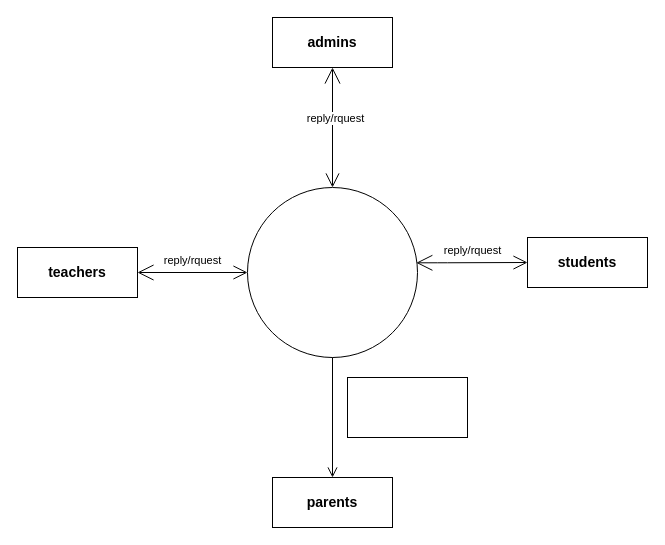
This 665x545 diagram has some shape labels left out. Each missing label, with the centre of its shape:
reports: (x=407, y=407)
School management system: (x=332, y=272)
